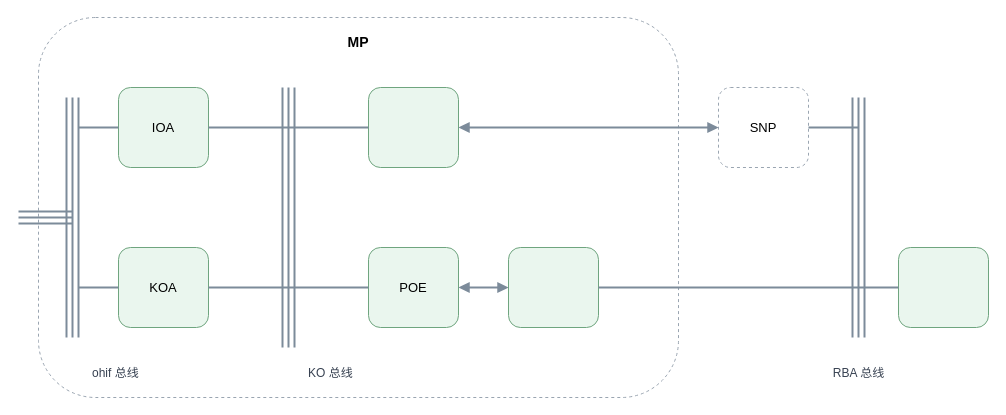
This 1006x415 diagram has some shape labels left out. The shapes that lost their labels are listed below. From the top down, each one's box as (x1, y1, x2, y2) in pixels, then its label:
(368, 86, 458, 168): MDP
(508, 246, 598, 328): RDP
(898, 246, 988, 328): SMC
